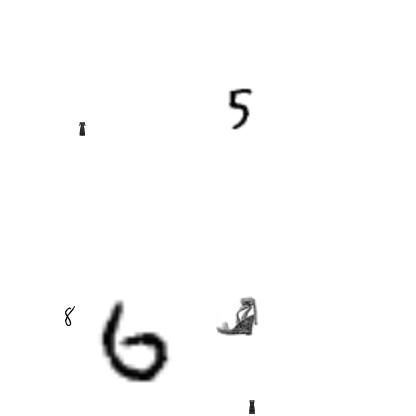5: (211, 77, 267, 133)
6: (75, 293, 187, 405)
8: (54, 302, 82, 330)
Dress: (75, 122, 89, 136), (245, 400, 259, 414)
Sandal: (216, 295, 258, 337)
